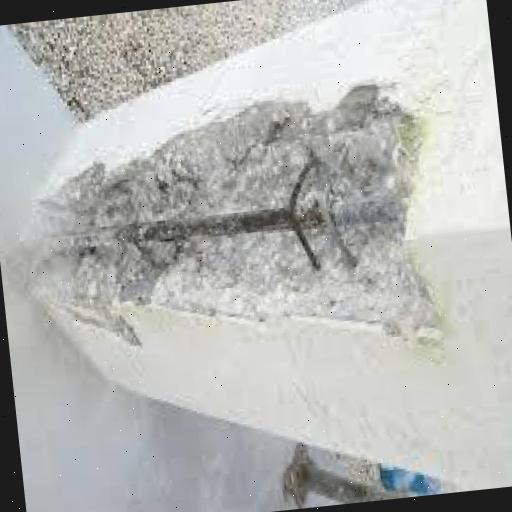spalling: (11, 89, 440, 344)
